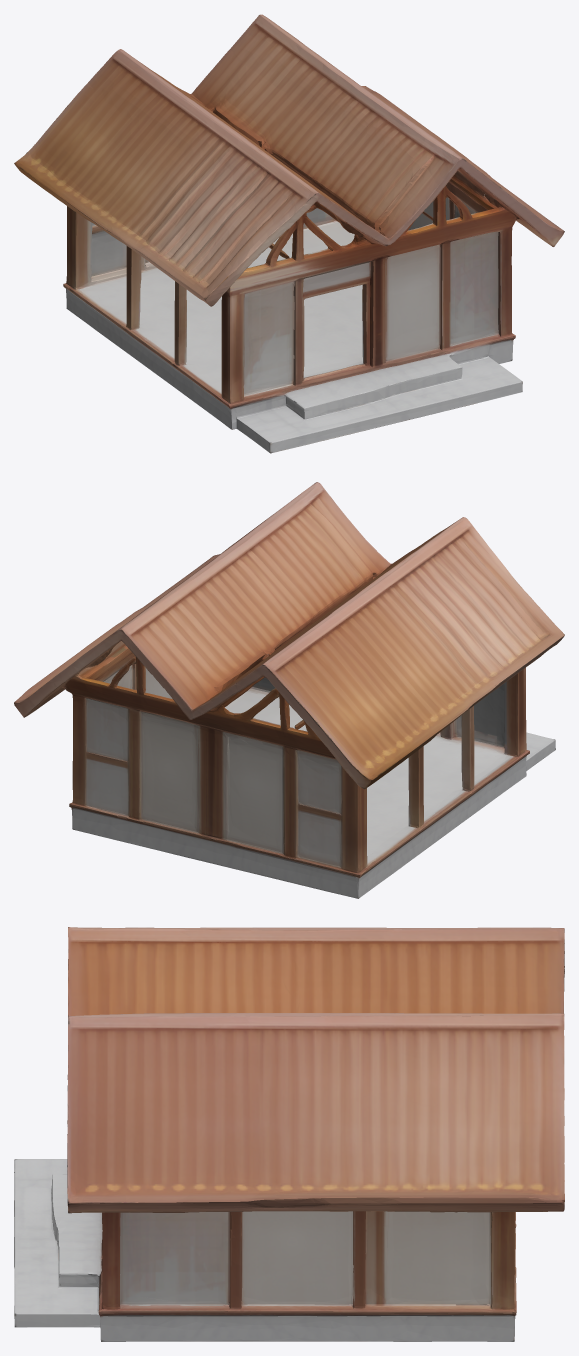
The model's file is 3d4 LUX.glb.
3 views of the same model, one above another, from view 1: azimuth 30°, elevation 25°; view 2: azimuth 150°, elevation 25°; view 3: azimuth 270°, elevation 25° (orthographic). The views are drawn at different scales.
Visible parts, largest first — view 1: world; view 2: world; view 3: world.
Part boxes in pixels (x1,y1,x2,y2): world: [14, 14, 564, 453]; world: [14, 482, 564, 898]; world: [14, 927, 564, 1341].
Size of the model in its own units: 0.9331 by 0.575 by 0.9995.
1 material, 1 textured.
